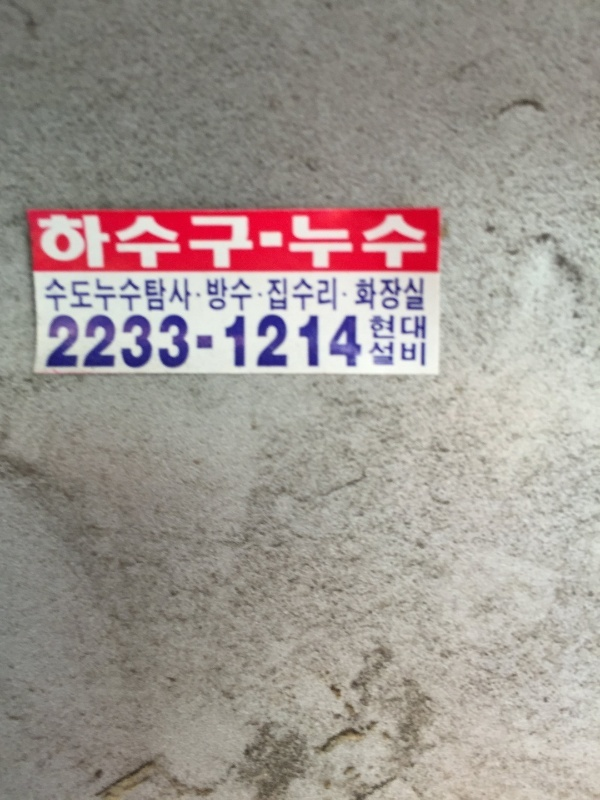text: (49, 313, 64, 378), (65, 313, 80, 378), (81, 313, 96, 378), (97, 313, 112, 378), (113, 313, 128, 378), (129, 313, 144, 378), (145, 313, 160, 378), (161, 313, 176, 378), (177, 313, 192, 378), (193, 313, 208, 378), (209, 313, 224, 378), (225, 313, 240, 378), (241, 313, 256, 378), (257, 313, 272, 378), (273, 313, 288, 378), (289, 313, 304, 378), (305, 313, 320, 378), (321, 313, 336, 378), (337, 313, 352, 378), (49, 212, 64, 273), (65, 212, 80, 273), (81, 212, 96, 273), (97, 212, 112, 273), (113, 212, 128, 273), (129, 212, 144, 273), (145, 212, 160, 273), (161, 212, 176, 273), (177, 212, 192, 273), (193, 212, 208, 273), (209, 212, 224, 273), (225, 212, 240, 273), (289, 213, 304, 272), (305, 213, 320, 272), (321, 213, 336, 272), (337, 213, 352, 272), (353, 213, 368, 272), (369, 213, 384, 272), (385, 213, 400, 272), (401, 213, 416, 272), (241, 212, 254, 273), (36, 212, 48, 273), (353, 313, 363, 378), (417, 213, 427, 272), (49, 275, 64, 314), (65, 275, 80, 314), (81, 275, 96, 314), (97, 275, 112, 314), (113, 275, 128, 314), (129, 275, 144, 314), (145, 275, 160, 314), (161, 275, 176, 314), (177, 275, 192, 314), (353, 276, 368, 312), (369, 276, 384, 312), (385, 276, 400, 312), (401, 276, 416, 312), (273, 277, 288, 313), (289, 277, 304, 313), (305, 277, 320, 313), (321, 277, 336, 313), (209, 277, 224, 313), (225, 277, 240, 313), (369, 314, 384, 344), (385, 314, 400, 344), (401, 314, 416, 344), (241, 277, 253, 313), (369, 341, 384, 369), (385, 341, 400, 369), (401, 341, 416, 369), (417, 276, 426, 312), (417, 314, 427, 344), (417, 341, 427, 369), (259, 231, 272, 250), (266, 277, 272, 313), (273, 231, 284, 250), (46, 313, 48, 378), (45, 275, 48, 314), (337, 277, 338, 313), (207, 277, 208, 313)
